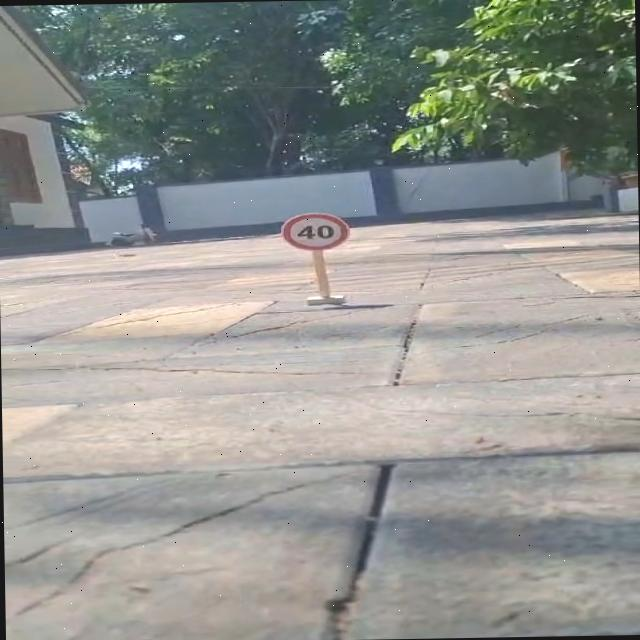Speed40: (278, 210, 354, 252)
